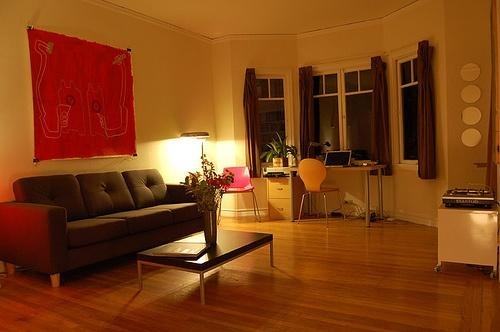chair: (295, 158, 347, 223), (220, 168, 263, 221)
pottedplant: (263, 136, 302, 166)
sofa: (1, 169, 214, 288)
